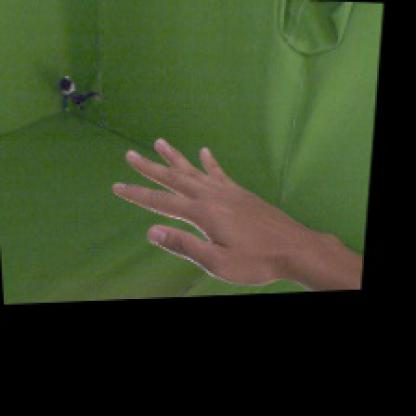Hand: (110, 135, 337, 288)
